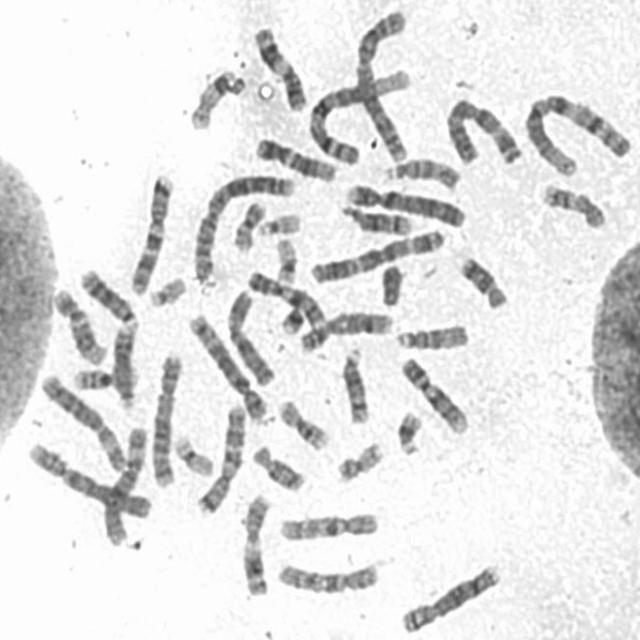A1: (304, 66, 414, 164), (519, 88, 632, 176)
A2: (189, 169, 297, 285), (349, 3, 411, 166)
A3: (306, 225, 446, 286), (442, 95, 525, 169)
B4: (23, 438, 155, 521), (342, 180, 468, 229)
B5: (185, 308, 270, 422), (148, 350, 185, 489)
C10: (273, 557, 382, 596), (276, 507, 380, 543)
C11: (250, 22, 309, 114), (238, 490, 272, 598)
C12: (50, 284, 108, 366), (252, 134, 336, 182)
C6: (37, 369, 129, 474), (99, 423, 148, 547)
C7: (193, 399, 247, 518), (127, 170, 176, 297)
C8: (397, 560, 502, 634), (296, 307, 395, 354)
C9: (398, 353, 470, 436), (244, 268, 328, 330)
D13: (77, 264, 139, 330), (109, 322, 138, 413)
D14: (337, 341, 372, 425), (337, 201, 415, 238)
D15: (378, 154, 463, 192), (392, 318, 472, 352)
E16: (275, 397, 330, 453), (68, 362, 138, 392)
E17: (186, 65, 245, 133), (537, 179, 610, 232)
E18: (455, 252, 509, 312), (248, 441, 306, 493)
F19: (170, 432, 217, 478), (272, 233, 299, 288)
F20: (332, 436, 387, 484), (230, 196, 269, 253)
G21: (392, 407, 424, 458), (276, 301, 308, 335)
G22: (252, 208, 304, 240), (144, 272, 188, 309)
X: (222, 286, 277, 387)
Y: (376, 259, 405, 308)
